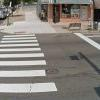Crosswalk: (4, 24, 55, 100)
